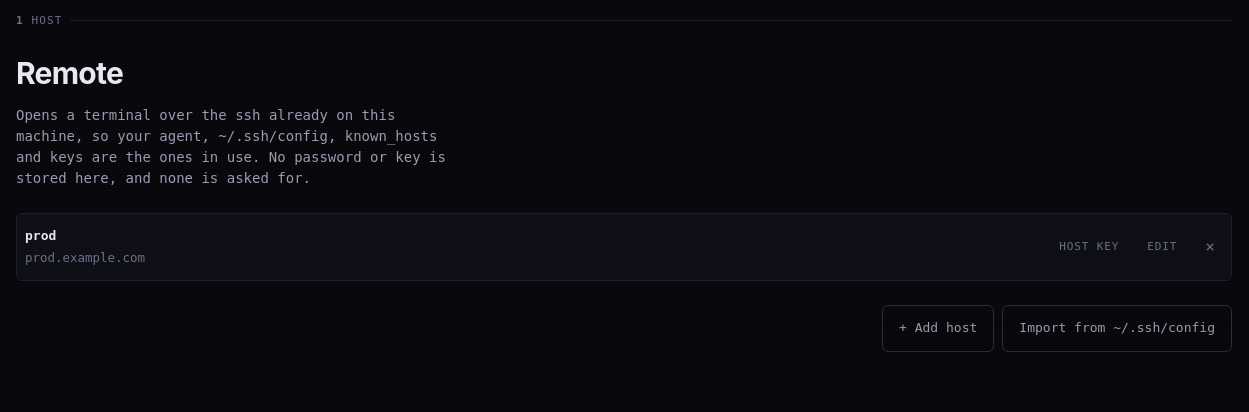
Test: a host's key › shows the fingerprint this machine already trusts
Click the button with aria-label "check the host key of prod". click: (1089, 247)
box: left=1051, top=234, right=1127, bottom=260
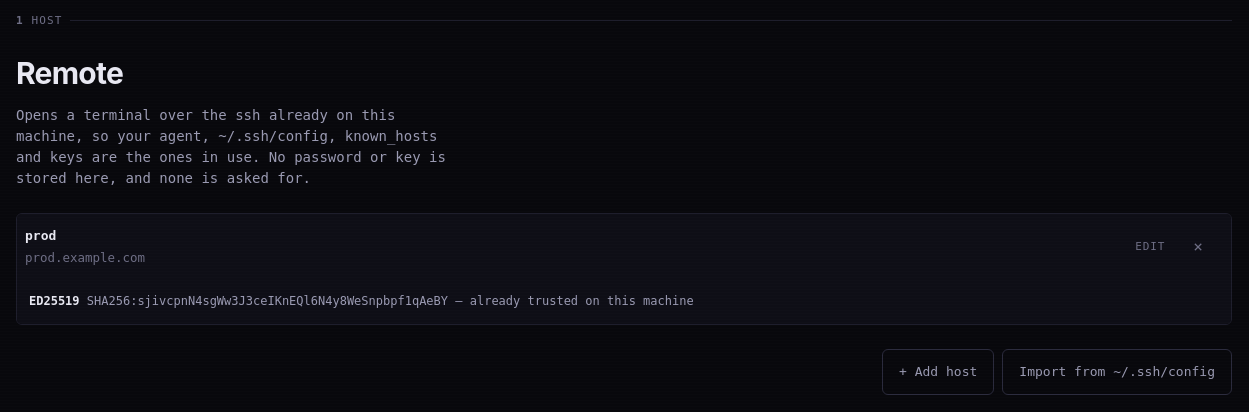
Now the text "SHA256:sjivcpnN4sgWw3J3ceIKnEQl6N4y8WeSnpbpf1qAeBY" shows "ED25519", box left=29, top=294, right=80, bottom=308
